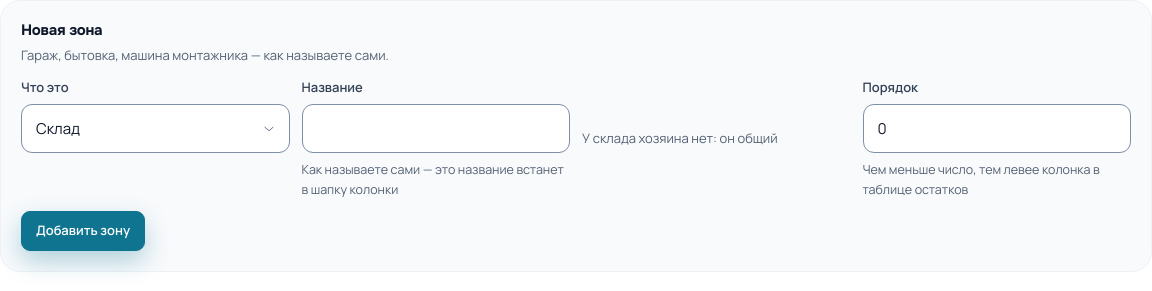
it: Форма зоны хранения › заводит машину с хозяином и очищает форму
Select "Машина монтажника" in the dropdown labelled "Что это" at (155, 129), box [21, 104, 290, 153]
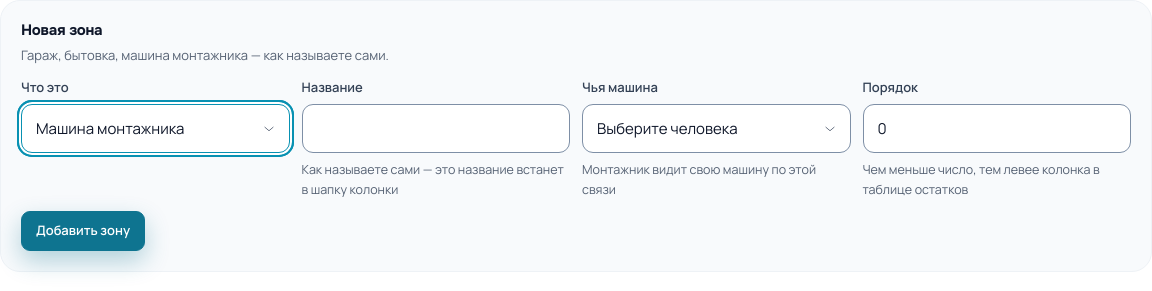
Type "Газель" into the field labelled "Название" at (436, 129), box [302, 104, 570, 153]
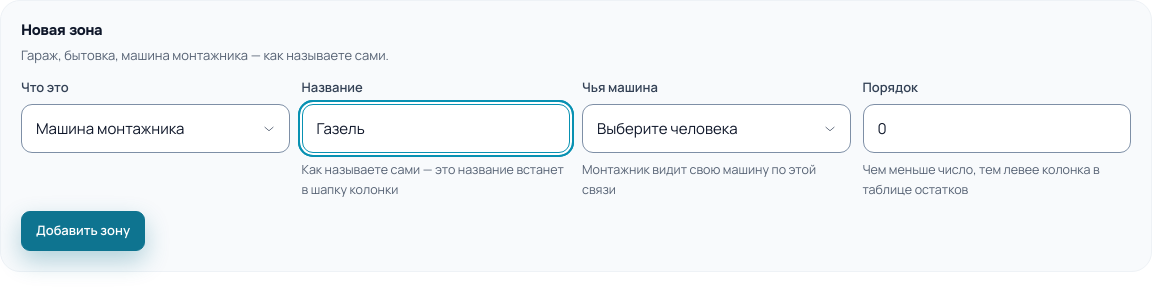
Select "Дмитрий Соколов" in the dropdown labelled "Чья машина" at (716, 129), box [582, 104, 850, 153]
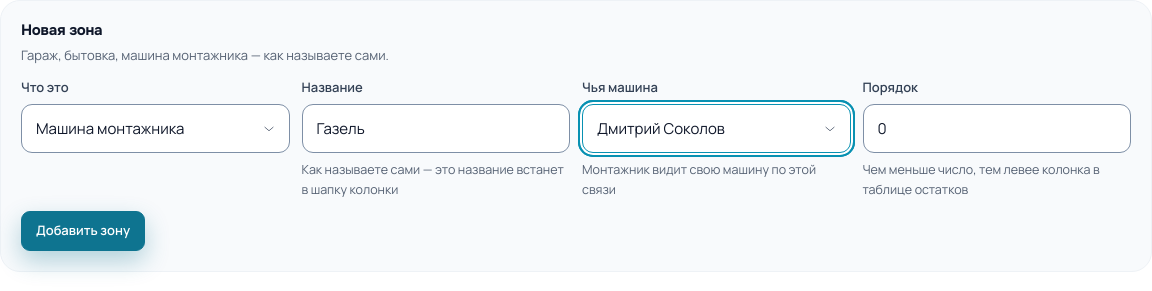
Click the button "Добавить зону" at (83, 231), box [21, 211, 145, 251]
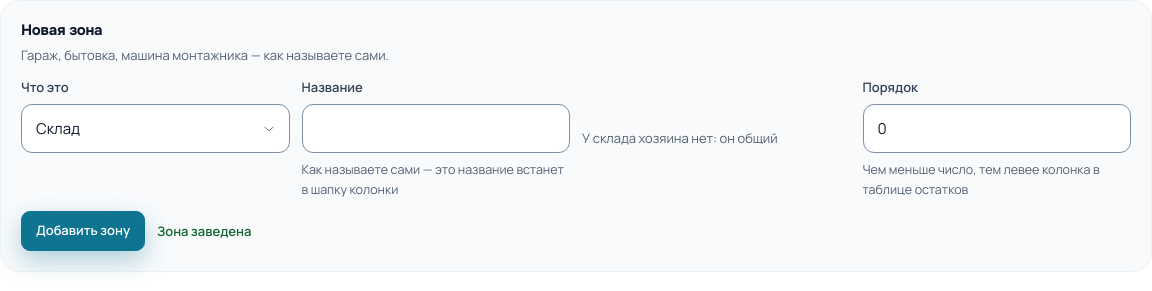
Check: the text "Зона заведена" is shown, box [157, 221, 251, 241]
